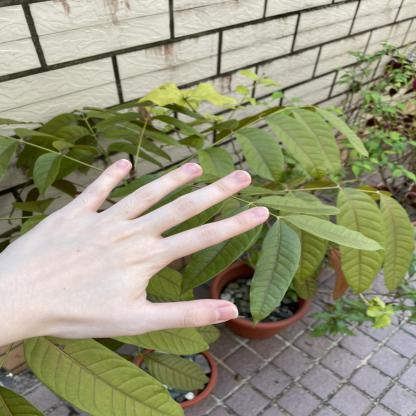bare_hand: (0, 146, 278, 363)
